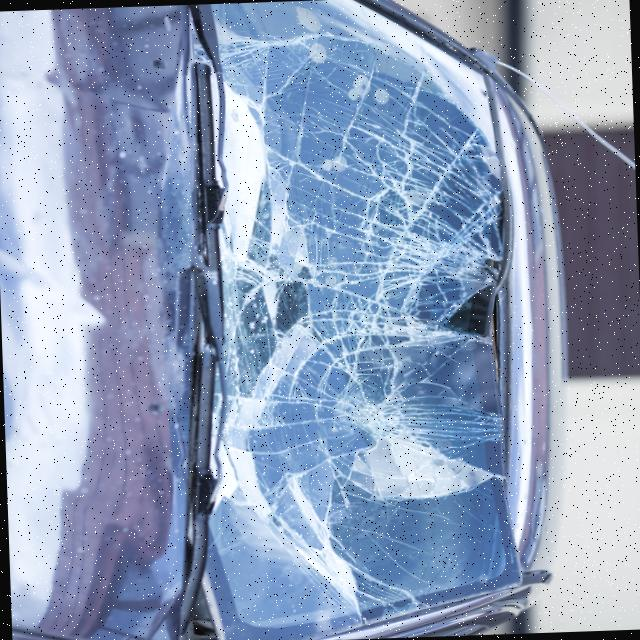Windshield: (199, 15, 516, 596)
